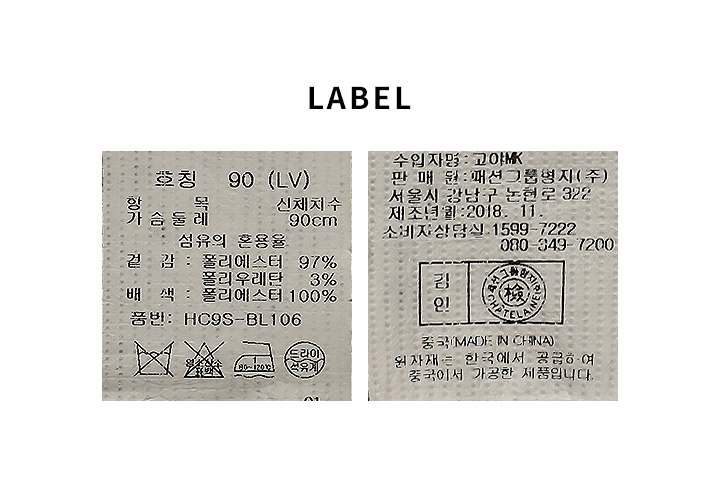KR_dry_clean_petroleum: (283, 337, 327, 382)
KR_iron_low_temp_with_cloth: (232, 337, 279, 383)
KR_no_bleach: (183, 339, 226, 382)
KR_no_wash: (133, 337, 175, 383)
